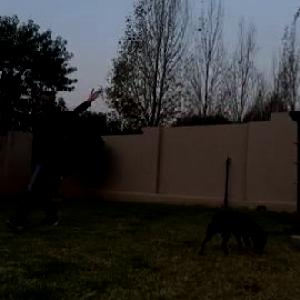takeoff: (0, 81, 110, 229)
